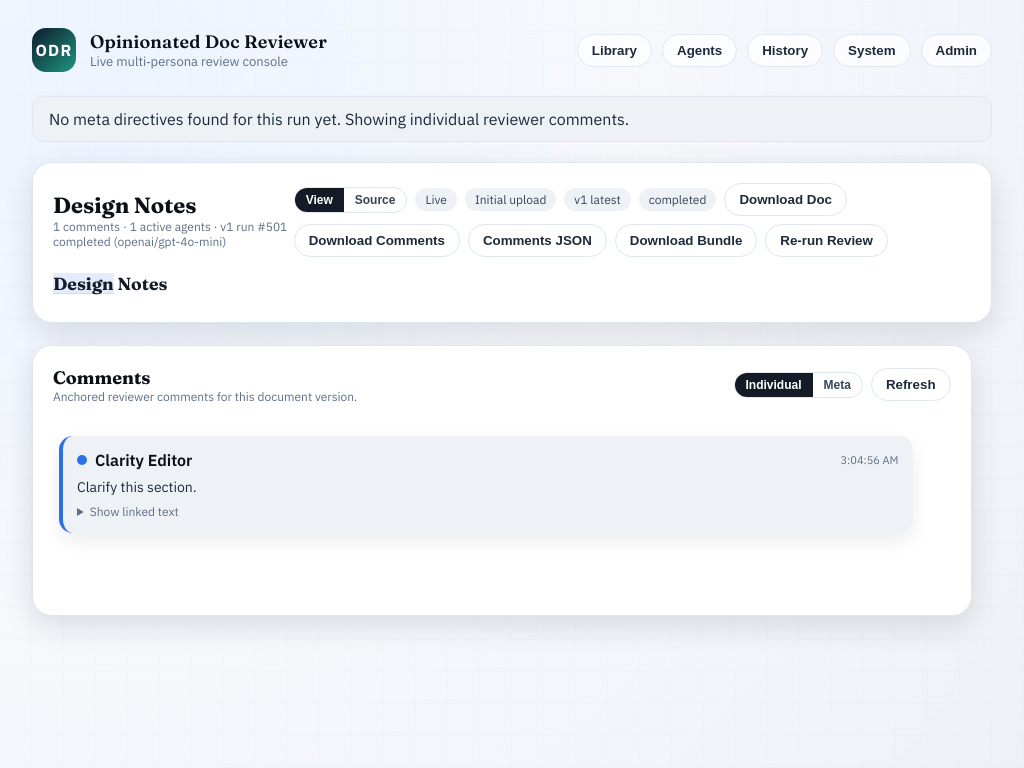
Test: page controls › recompute from missing meta run after manual toggle does not regress to individual mode
This screenshot has width=1024, height=768.
Expected: the text "Anchored reviewer comments for this document version." is shown, [53, 389, 357, 404]
Click the button "Meta".
click(837, 385)  # box [812, 373, 862, 397]
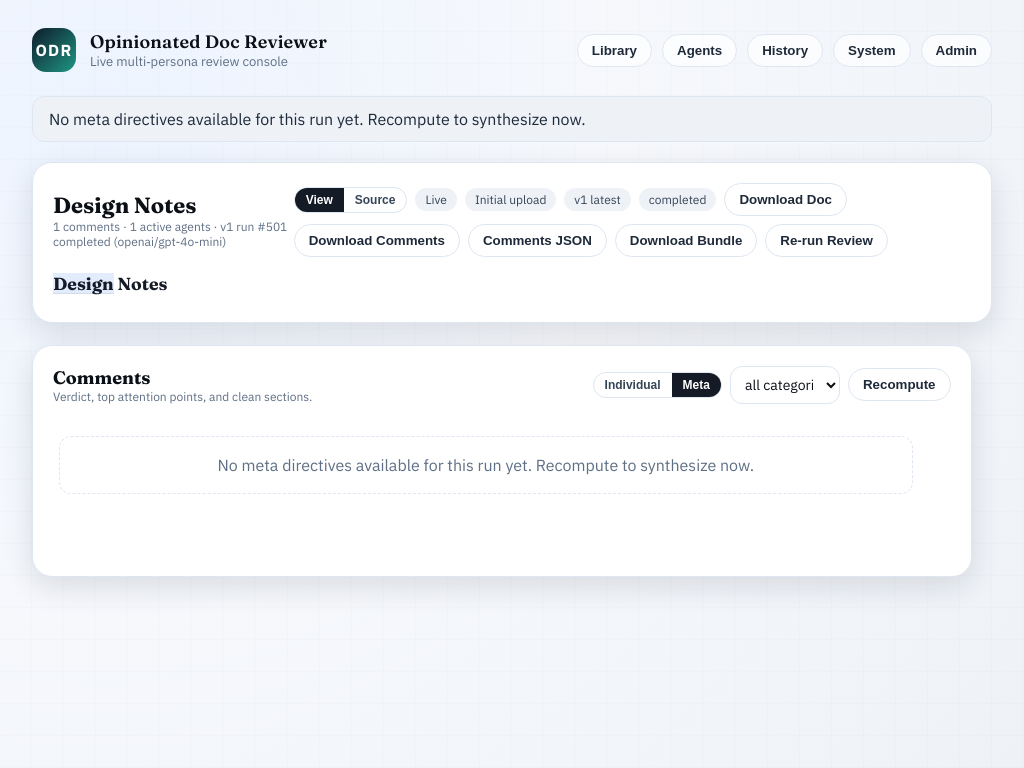
Now the text "Verdict, top attention points, and clean sections." is shown, box [53, 389, 312, 404]
Now the 1st text "No meta directives available for this run yet. Recompute to synthesize now." is shown, box [32, 96, 992, 142]
Click the button "Recompute".
click(899, 385)  # box [848, 368, 951, 401]
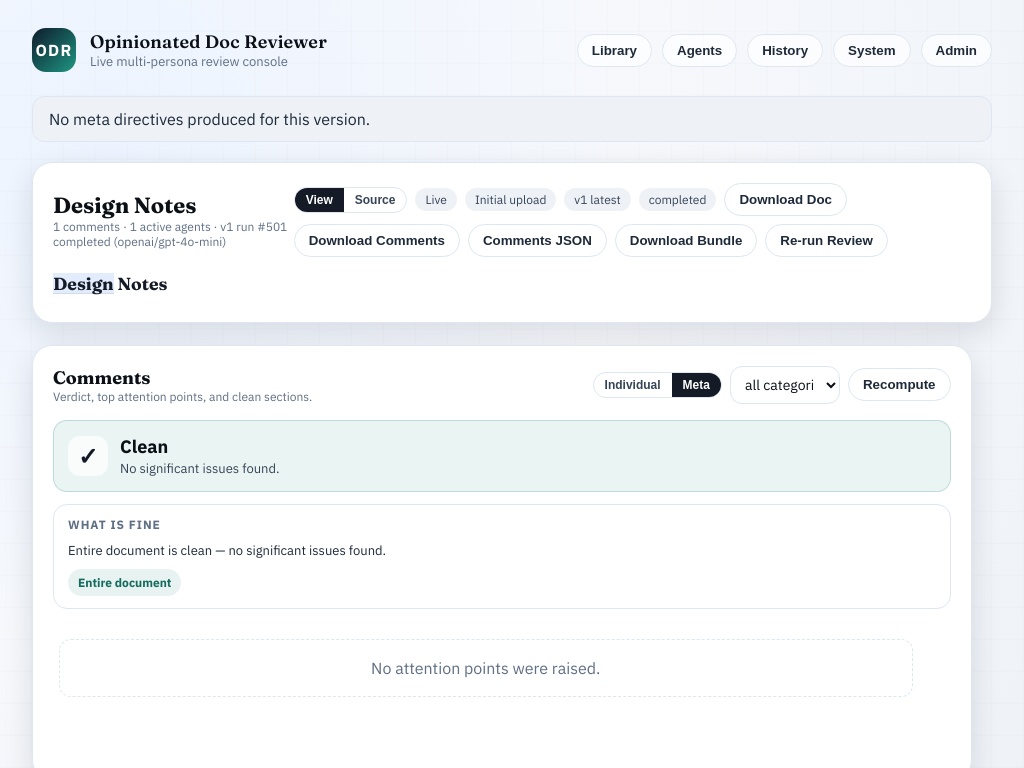
Now the text "No meta directives produced for this version." is shown, box [32, 96, 992, 142]
Now the text "Clean" is shown, box [120, 435, 168, 458]
Now the text "No significant issues found." is shown, box [120, 460, 280, 477]
